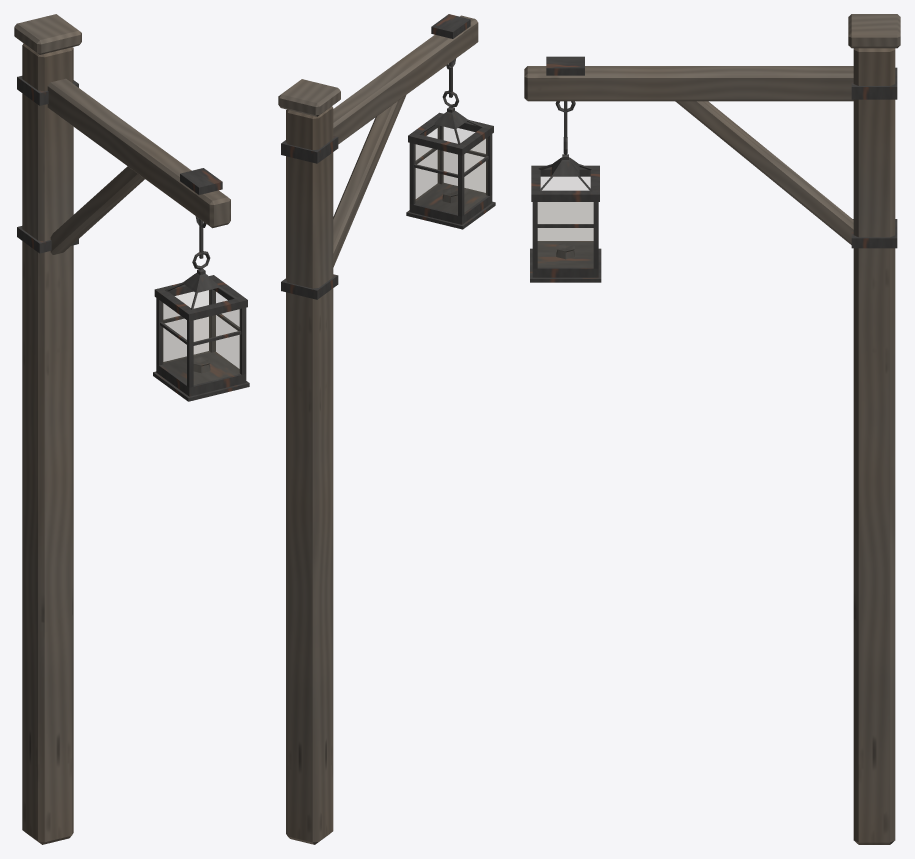
The model's file is post_lantern.glb.
3 renders of one model, left to right at view 1: azimuth 30°, elevation 25°; view 2: azimuth 150°, elevation 25°; view 3: azimuth 270°, elevation 25°, orthographic. The views are drawn at different scales.
Parts seen in each view (by area): view 1: post_lantern; view 2: post_lantern; view 3: post_lantern.
Boxes of the visible parts, x1,y1,x2,y2 form: post_lantern: (14, 14, 249, 844); post_lantern: (278, 14, 495, 844); post_lantern: (524, 14, 900, 844).
Size of what is drawn, in the model's own units: 0.2592 by 3.26 by 1.36.
Materials: 2 (1 with a texture image).
